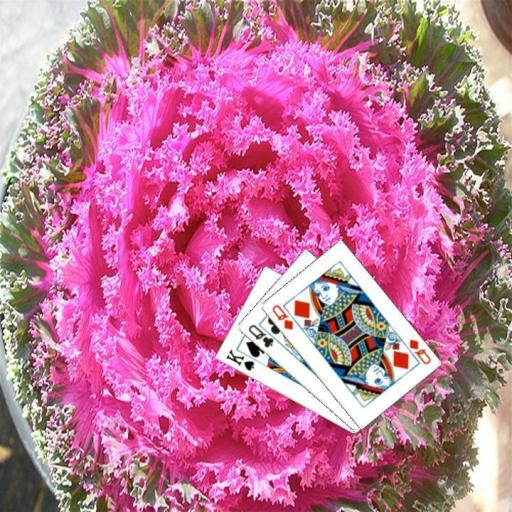card-corner: (223, 346, 255, 373), (245, 322, 275, 349), (268, 302, 294, 332), (406, 336, 432, 366)
